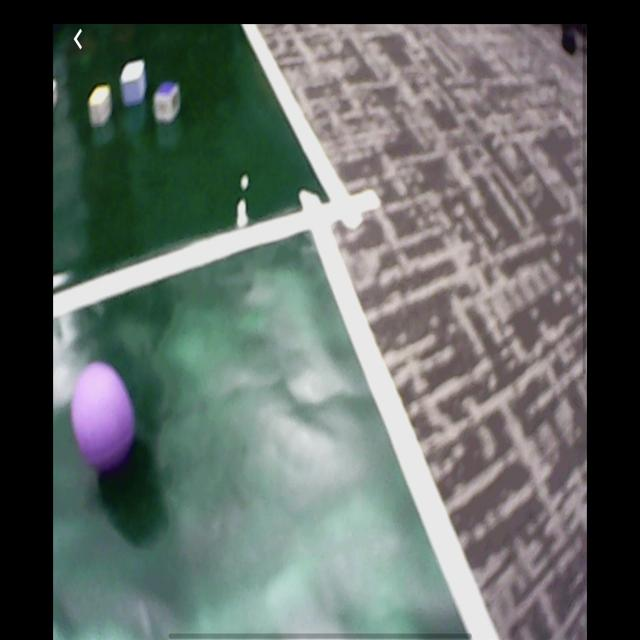ball: (71, 364, 139, 473)
